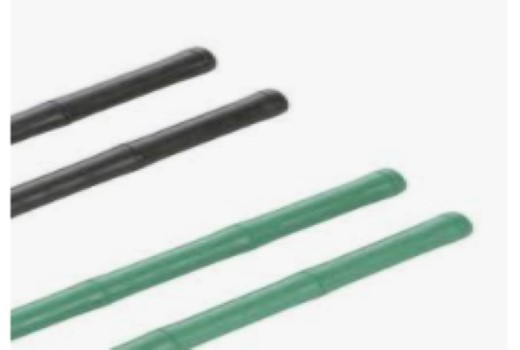baston_e: (52, 161, 375, 327), (25, 85, 264, 217), (210, 217, 429, 347), (10, 41, 190, 148)
baston_v: (435, 204, 484, 247), (252, 81, 296, 125), (371, 159, 417, 197), (186, 37, 222, 72)
